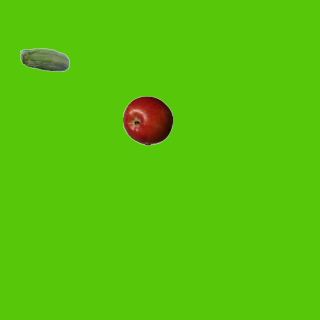Apple Braeburn: (122, 95, 172, 145)
Corn Husk: (19, 36, 69, 86)
